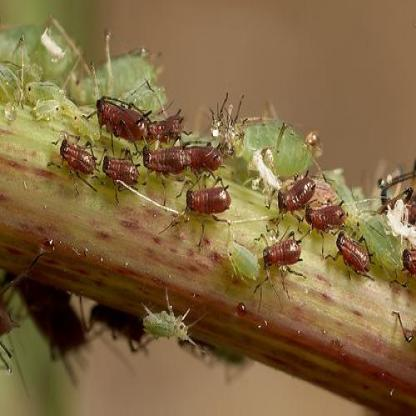aphid: (76, 27, 158, 109), (226, 109, 322, 173), (130, 289, 203, 352), (173, 174, 237, 232), (89, 91, 153, 140), (329, 221, 380, 278), (215, 228, 264, 286), (262, 225, 310, 284), (53, 129, 101, 183), (141, 135, 193, 180), (278, 169, 322, 218), (99, 140, 140, 187), (178, 139, 226, 176), (19, 69, 66, 106), (302, 198, 348, 230), (150, 102, 190, 138), (32, 87, 63, 130), (399, 238, 416, 288)
